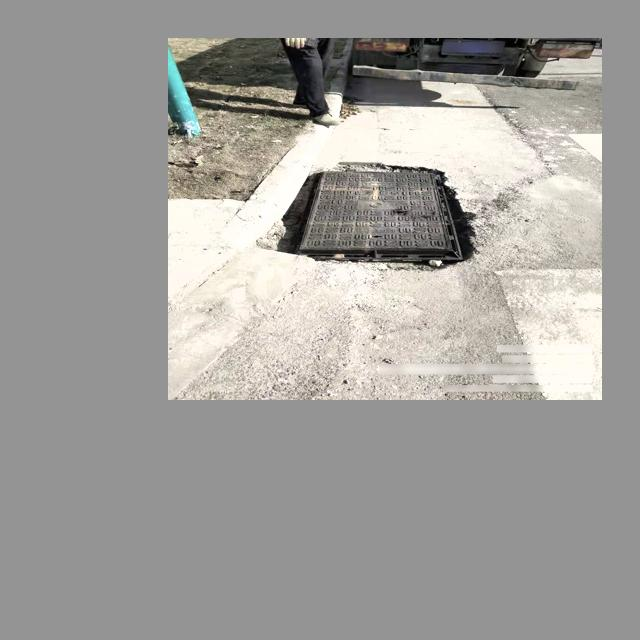circle: (274, 166, 476, 267)
